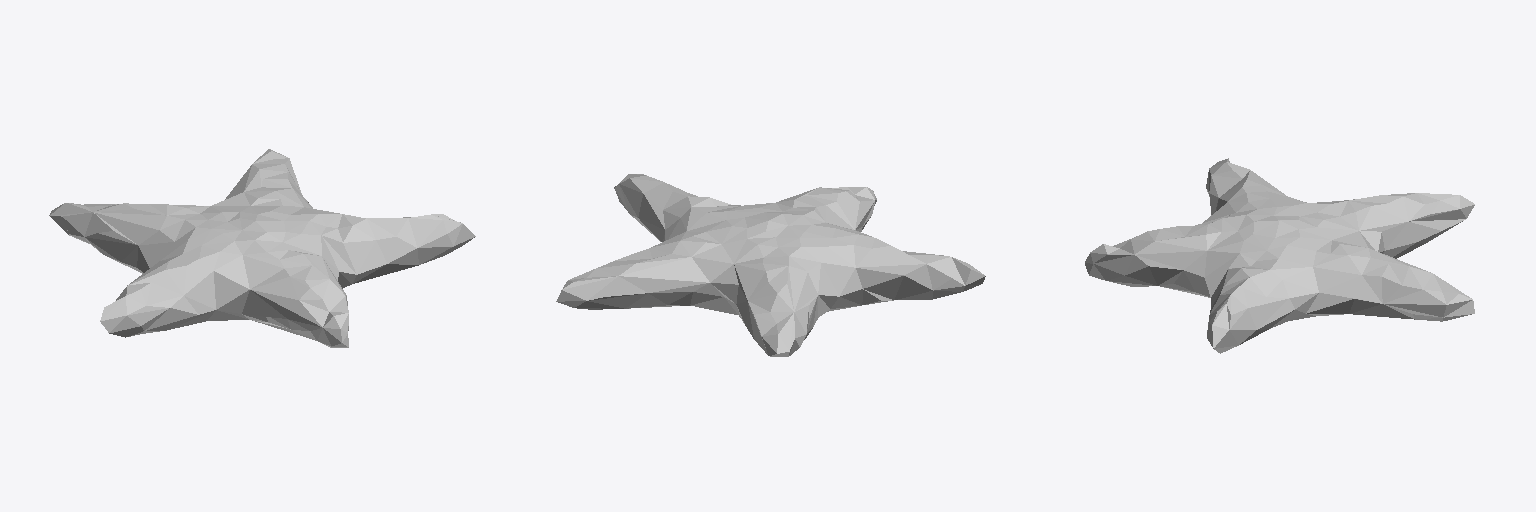
File: starfish_low.obj
The picture shows the model from 3 angles: view 1: azimuth 30°, elevation 25°; view 2: azimuth 150°, elevation 25°; view 3: azimuth 270°, elevation 25°; orthographic projection.
Visible parts, largest first — view 1: starfish_low; view 2: starfish_low; view 3: starfish_low.
Boxes of the visible parts, box(x1,y1,x2,y2) form: starfish_low: box(49, 149, 475, 347); starfish_low: box(556, 174, 985, 356); starfish_low: box(1085, 158, 1474, 353).
Bounding box in the file's own units: 423 × 76.43 × 383.